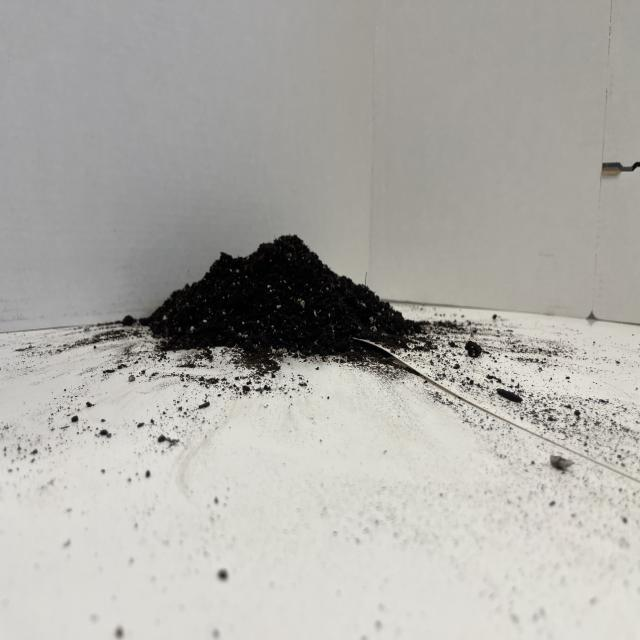soil: (128, 230, 423, 362)
